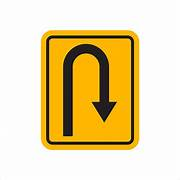back: (40, 29, 140, 150)
